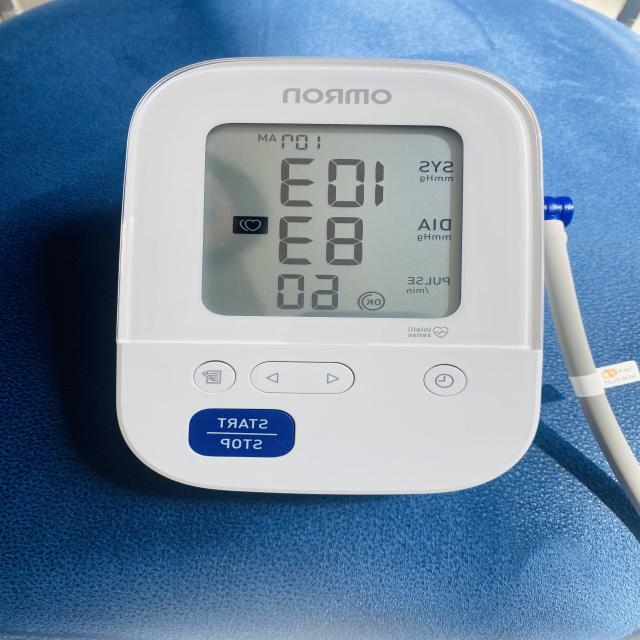bp: (37, 0, 640, 510)
